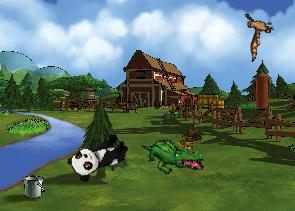crocodile: (141, 134, 205, 178)
eagle: (231, 4, 283, 62)
panda: (65, 127, 132, 185)
